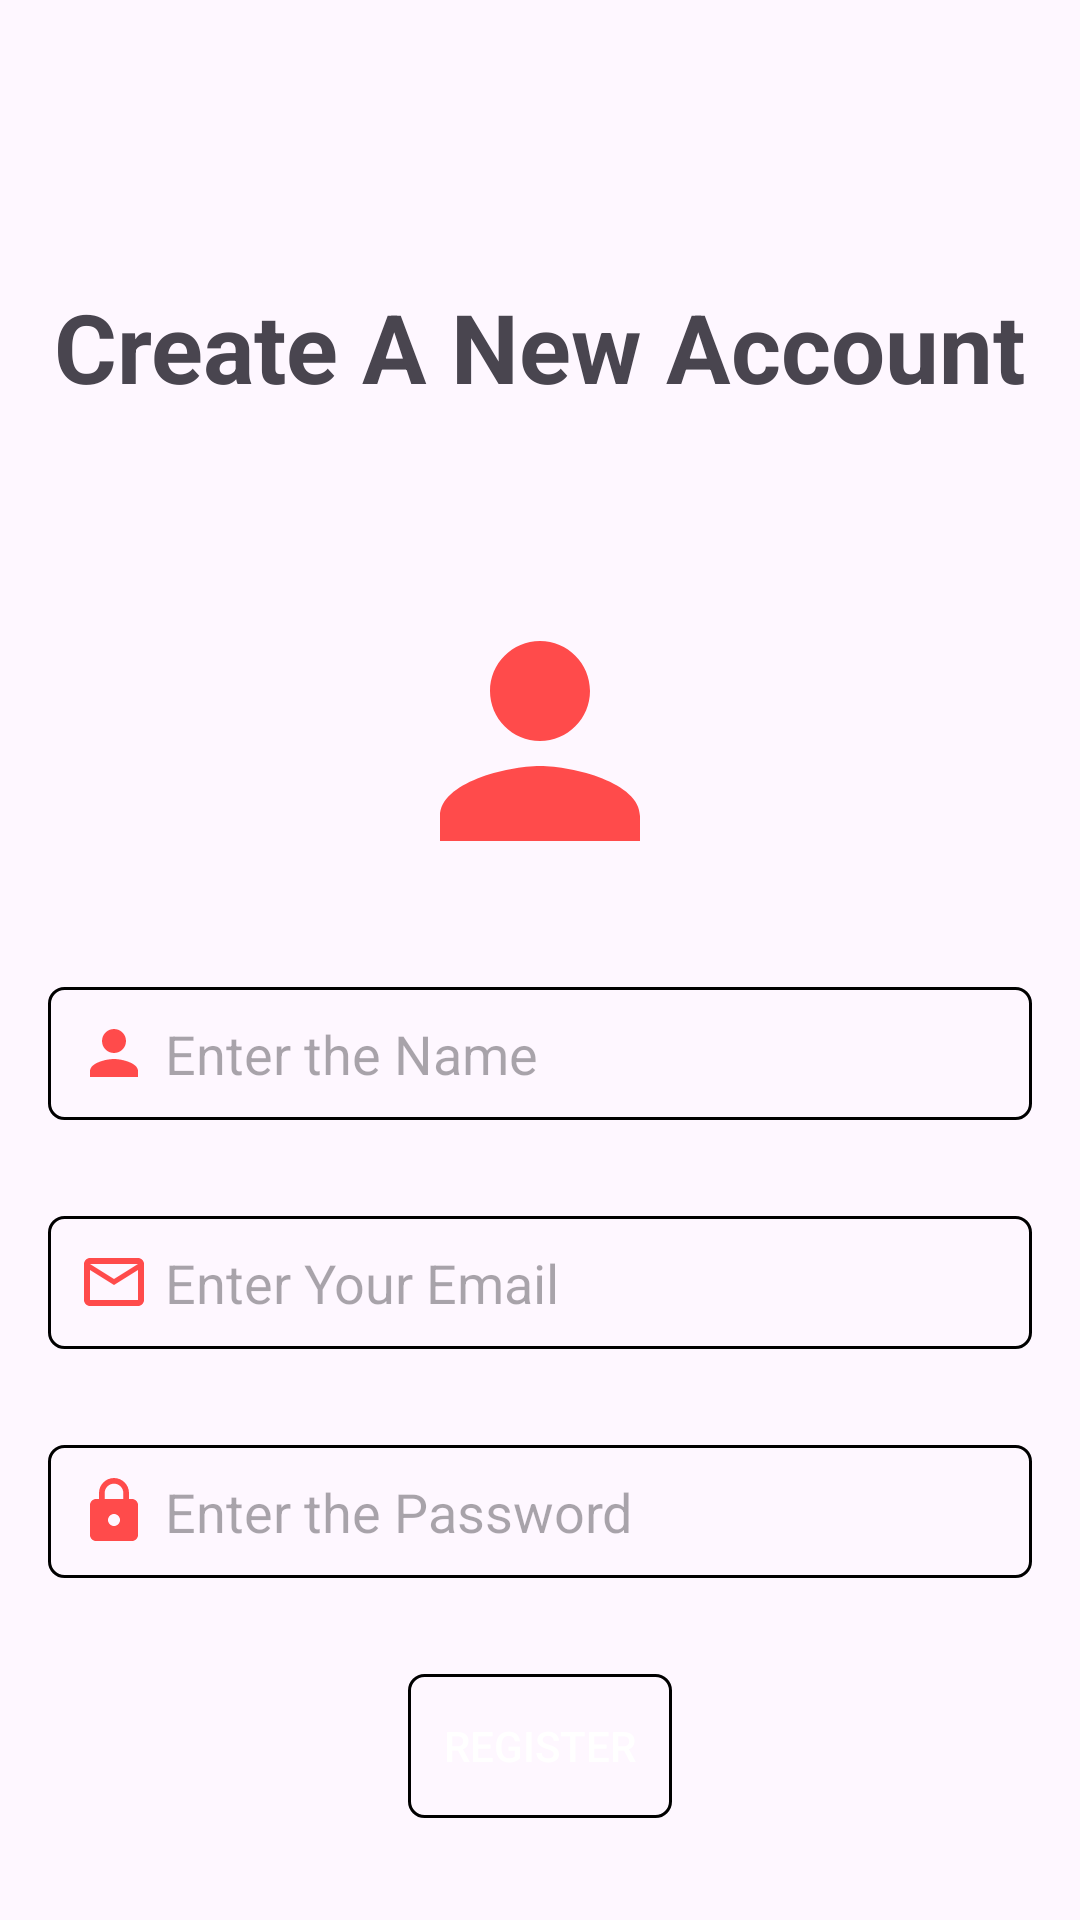

Locate icon controls on the screen. Image size 1080*1920, boxes as (x1=x1, y1=y1, x2=x2, y2=y2).
person: (x1=440, y1=641, x2=640, y2=841)
